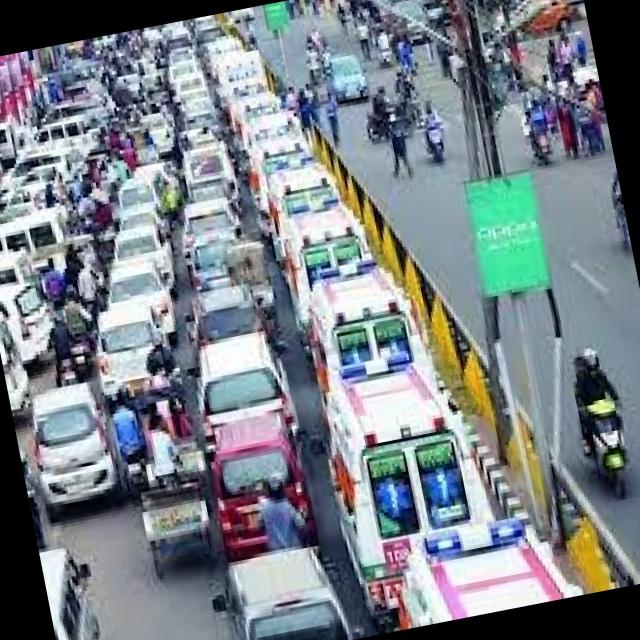ambulance: (314, 353, 482, 547), (377, 508, 574, 632), (304, 258, 428, 377), (238, 90, 328, 178), (258, 138, 336, 212), (284, 198, 368, 264)
